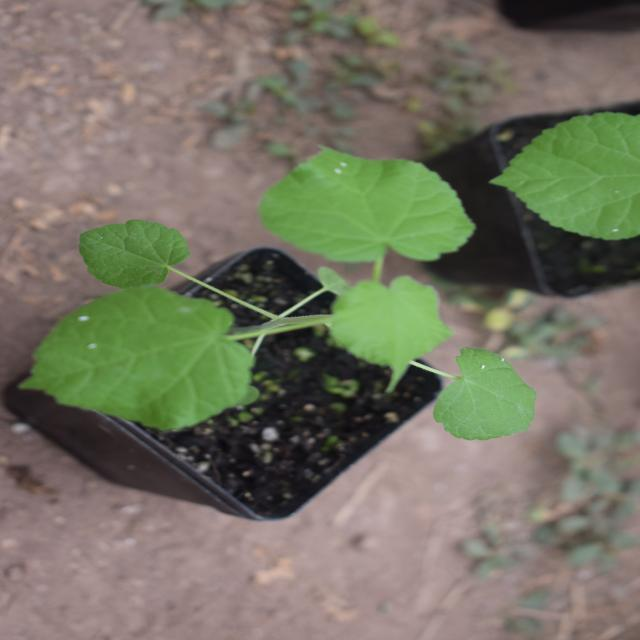abutilon theophrasti: (150, 86, 472, 594)
